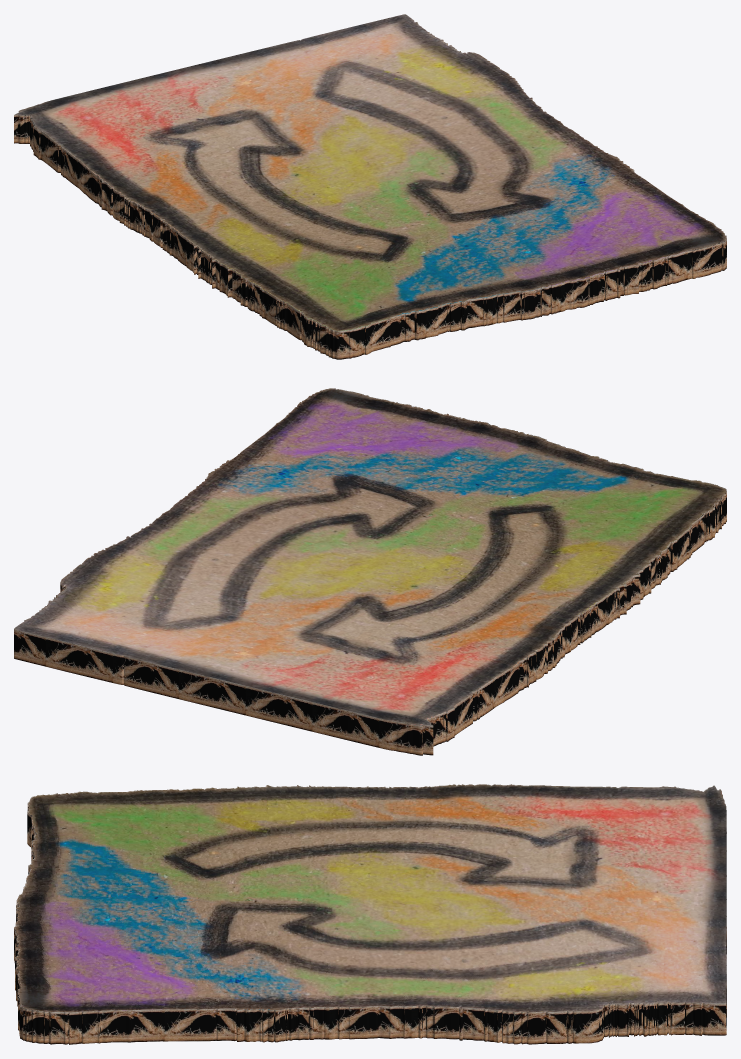
Rendered from Portal.fbx.
3 views of the same model, one above another, from view 1: azimuth 30°, elevation 25°; view 2: azimuth 150°, elevation 25°; view 3: azimuth 270°, elevation 25° (orthographic). The views are drawn at different scales.
Parts seen in each view (by area): view 1: Shape1; view 2: Shape1; view 3: Shape1.
Part boxes in pixels (box(x1,y1,x2,y2)): Shape1: box(14, 14, 726, 359); Shape1: box(14, 388, 726, 755); Shape1: box(14, 784, 726, 1044).
Bounding box in the file's own units: 1.52 × 0.1 × 2.01.
